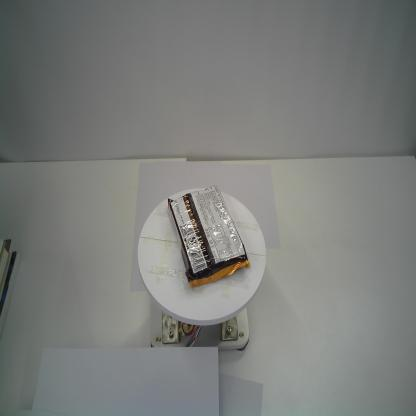Dessert: (167, 184, 250, 288)
